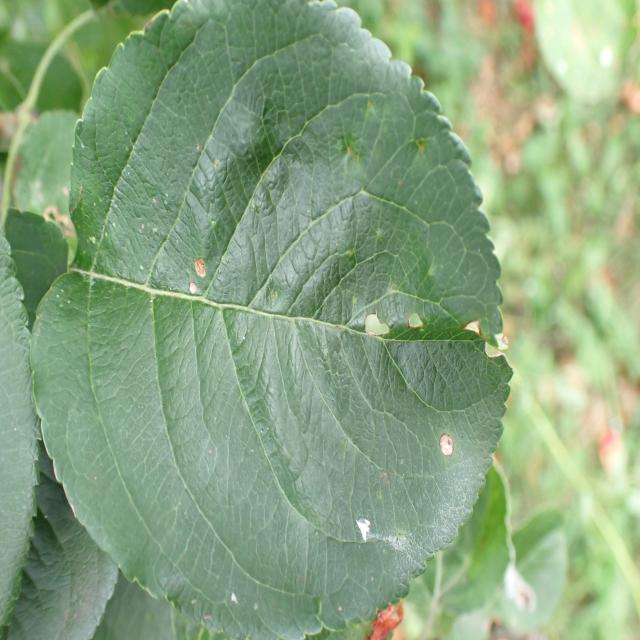Black Rot: (351, 290, 399, 352), (418, 425, 469, 482), (453, 302, 494, 352), (175, 252, 216, 300), (356, 496, 374, 560), (407, 294, 421, 348)
